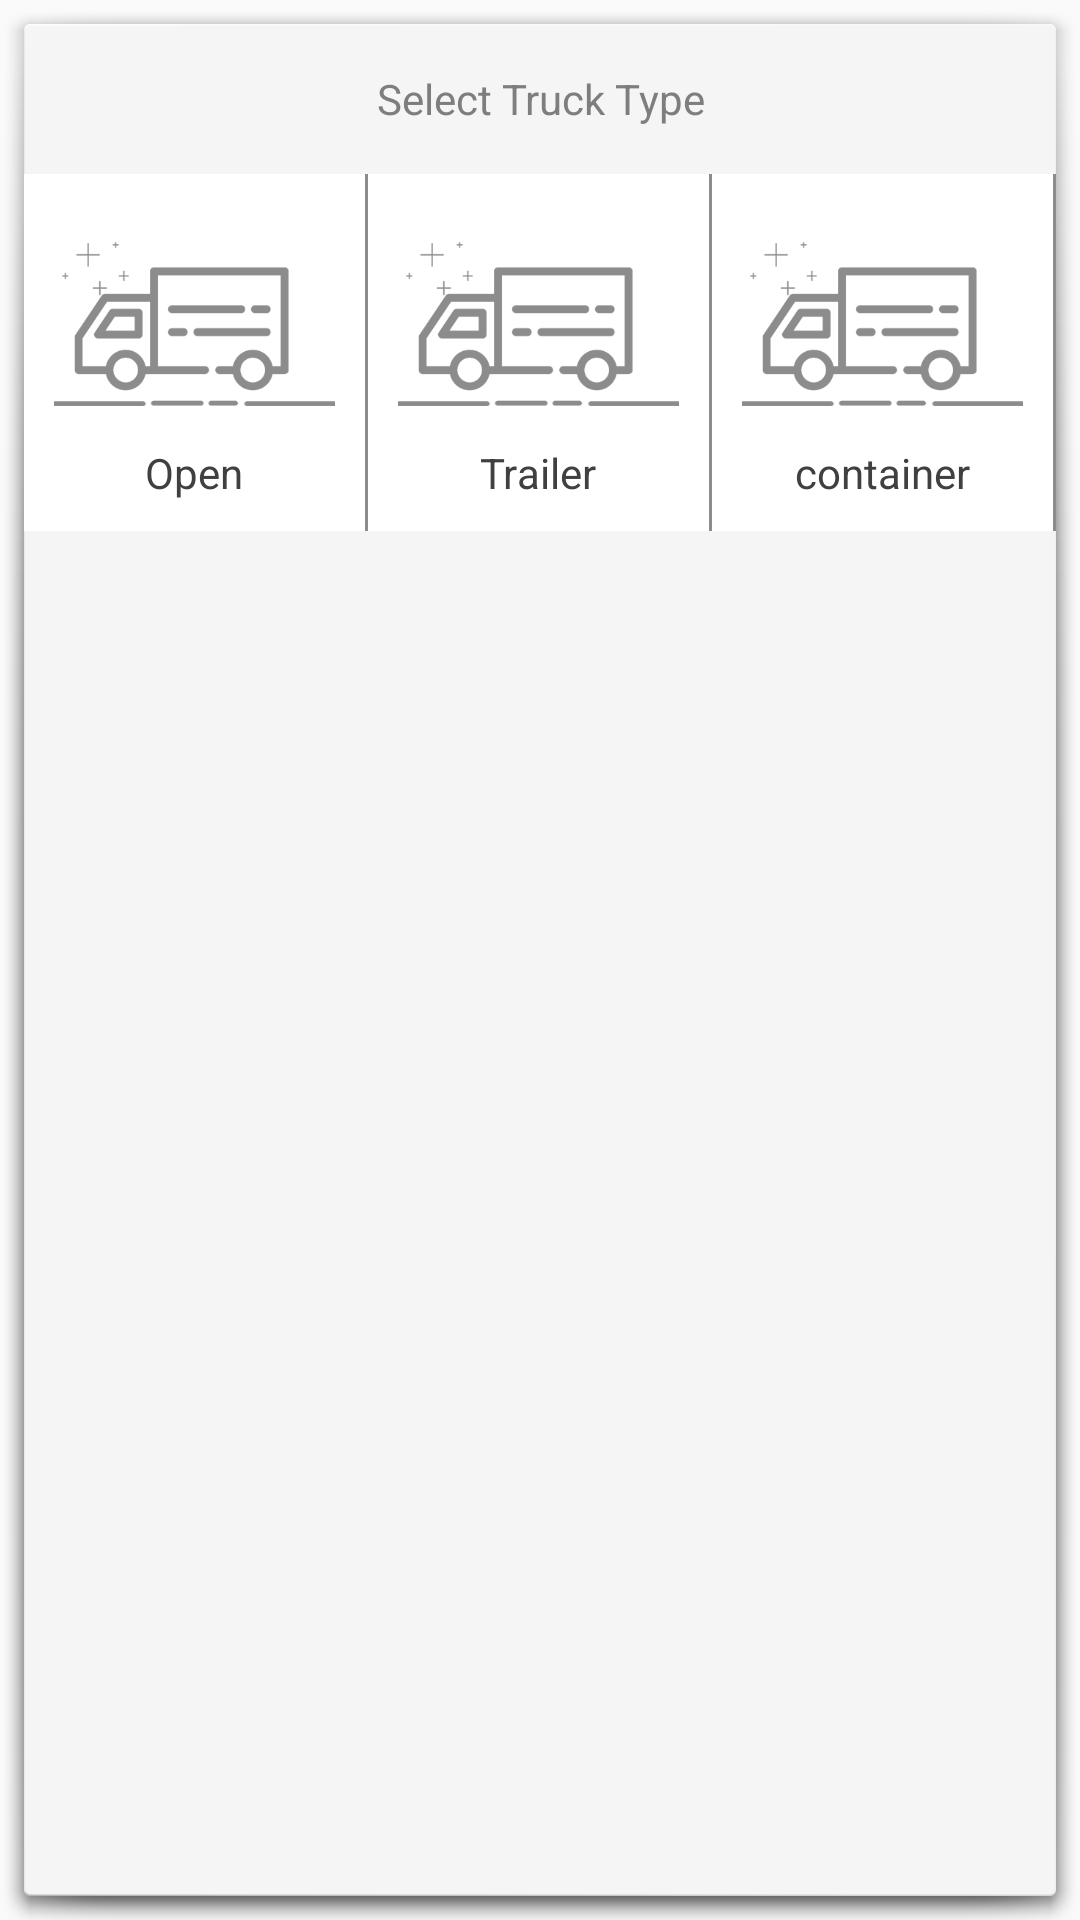

Named icons in this screenshot (1080×1920) and their centers, point (x, y):
truck left: point (194, 324), point (538, 324), point (882, 324)
